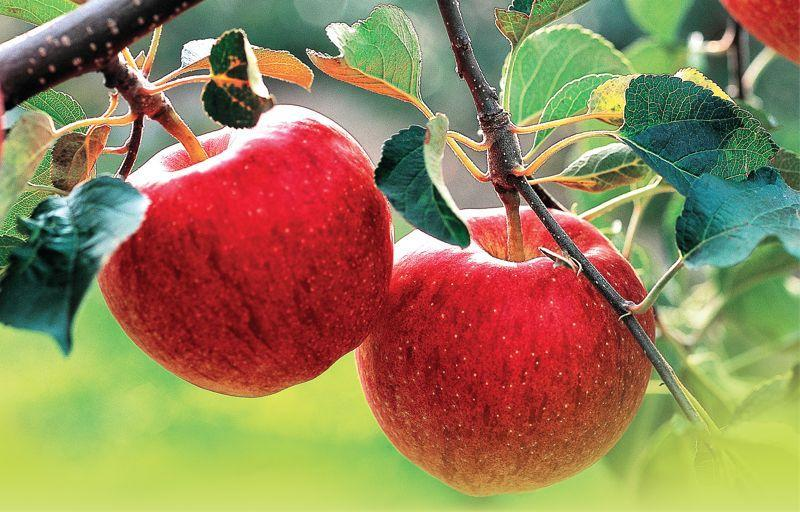apple: (98, 100, 395, 397), (353, 209, 655, 498)
